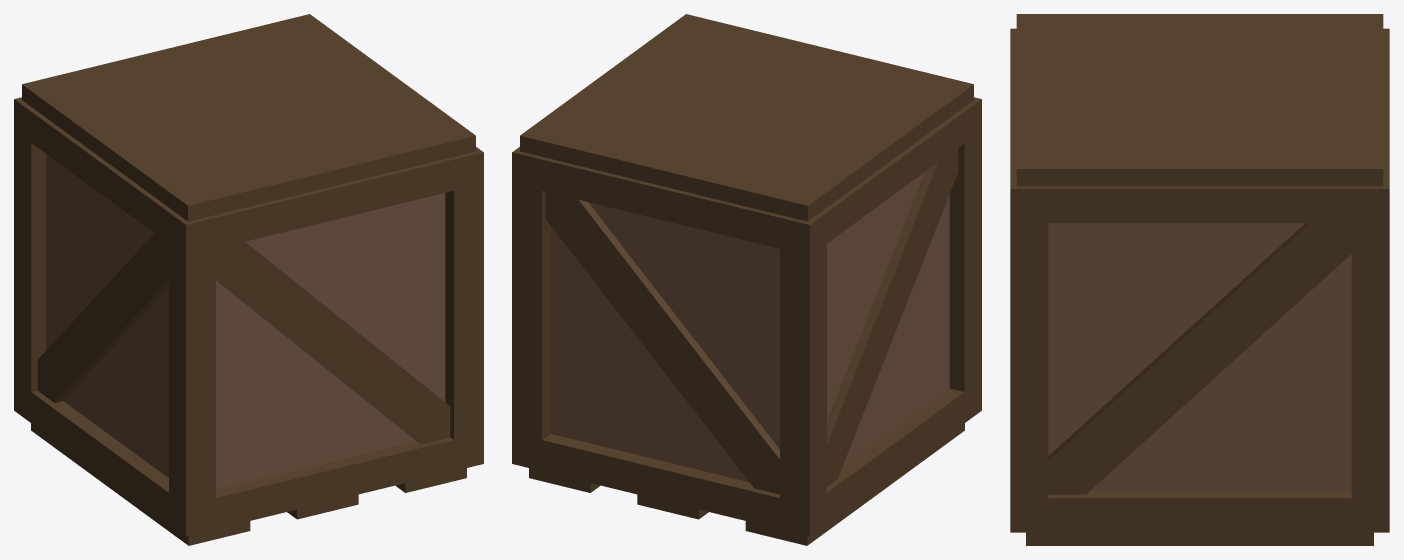
File: crate.fbx
3 views of the same model, side by side, from view 1: azimuth 30°, elevation 25°; view 2: azimuth 150°, elevation 25°; view 3: azimuth 270°, elevation 25° (orthographic). The views are drawn at different scales.
Visible parts, largest first — view 1: crate; view 2: crate; view 3: crate.
Boxes of the visible parts, x1,y1,x2,y2 form: crate: (14, 14, 483, 545); crate: (512, 14, 981, 545); crate: (1010, 14, 1389, 545).
Size of the model in its own units: 200 by 221 by 200.
